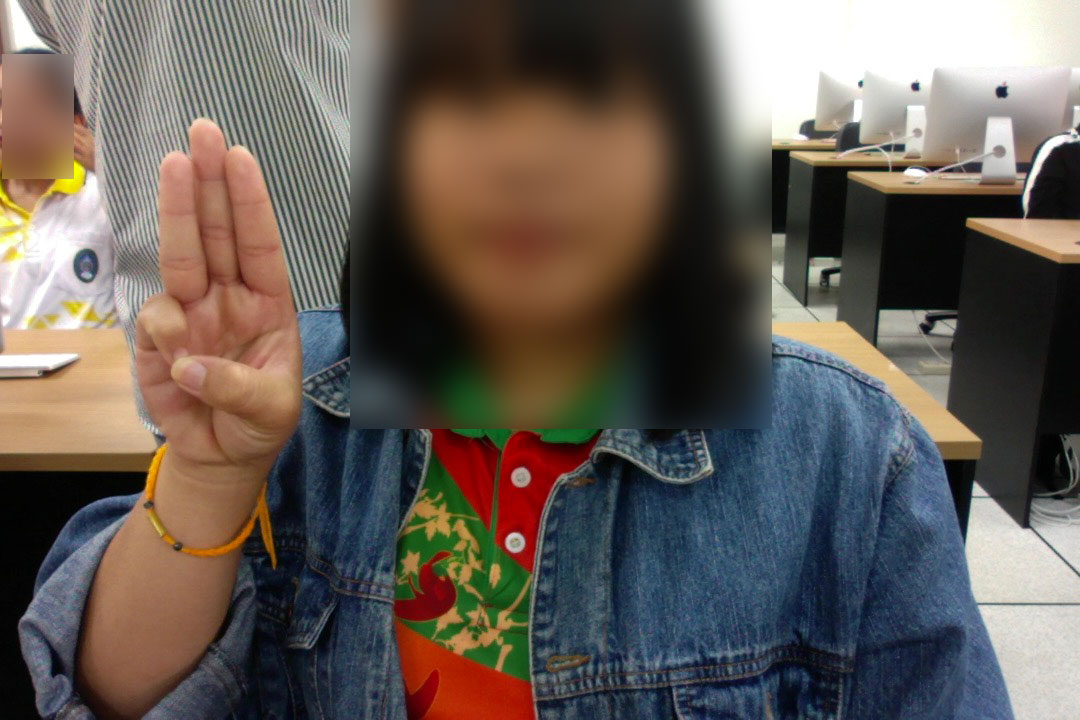wor: (106, 113, 316, 475)
